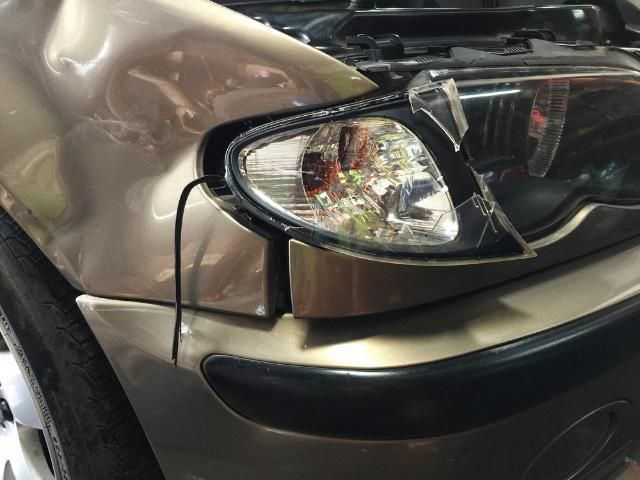dent: (0, 0, 332, 279)
lamp broken: (230, 76, 537, 263)
no part: (222, 0, 640, 89)
